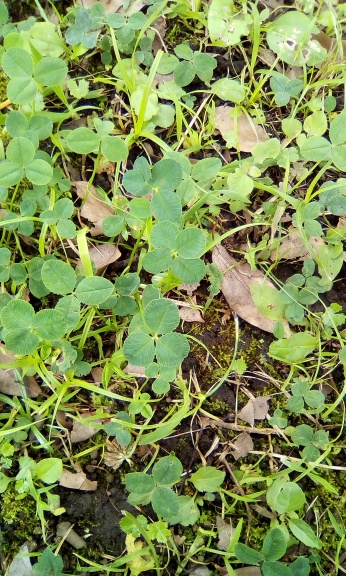4leaf: (141, 220, 207, 284)
